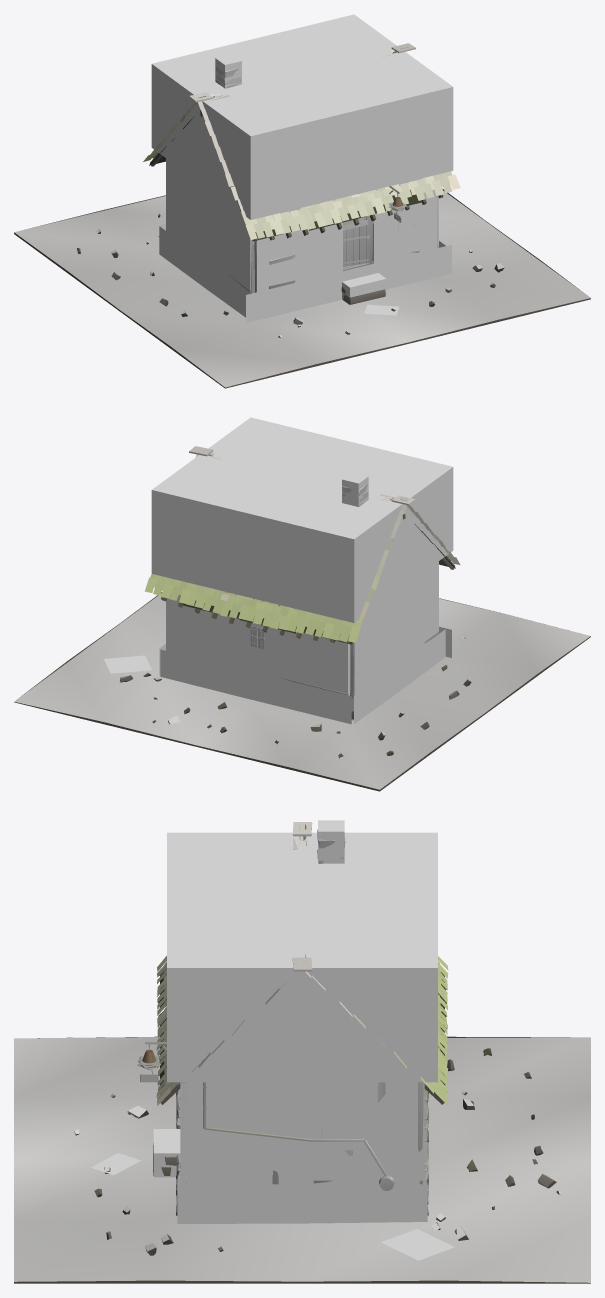
File: bld_lodge_orrin_shared.glb
The picture shows the model from 3 angles, top to bottom: view 1: azimuth 30°, elevation 25°; view 2: azimuth 150°, elevation 25°; view 3: azimuth 270°, elevation 25°; orthographic projection. The views are drawn at different scales.
Visible parts, largest first — view 1: col_roof, ground_mud, decals_orrin, col_col_wall_W_0, roof_main_shingles, col_col_wall_S_0, col_col_wall_S_2, door_main_leaf, col_steps, ground_clutter, frame_S, col_chimney (+1 smaller); view 2: col_roof, ground_mud, decals_orrin, col_col_wall_N_0, roof_main_shingles, col_col_wall_W_0, ground_clutter, col_chimney; view 3: ground_mud, col_roof, col_col_wall_E_0, decals_orrin, roof_main_shingles, ground_clutter, col_steps, col_chimney, bell_rope, plinth, col_col_wall_S_2.
Part boxes in pixels (<box>): col_roof: <box>151,14,453,219</box>; ground_mud: <box>14,189,590,388</box>; decals_orrin: <box>159,178,451,323</box>; col_col_wall_W_0: <box>166,158,254,292</box>; roof_main_shingles: <box>143,43,460,239</box>; col_col_wall_S_0: <box>256,199,342,292</box>; col_col_wall_S_2: <box>372,189,437,263</box>; door_main_leaf: <box>343,215,372,266</box>; col_steps: <box>342,273,386,304</box>; ground_clutter: <box>77,213,504,337</box>; frame_S: <box>254,193,419,292</box>; col_chimney: <box>215,54,241,88</box>; col_roof: <box>151,417,453,622</box>; ground_mud: <box>14,592,590,791</box>; decals_orrin: <box>104,626,451,724</box>; col_col_wall_N_0: <box>167,592,350,695</box>; roof_main_shingles: <box>144,446,460,642</box>; col_col_wall_W_0: <box>351,561,438,720</box>; ground_clutter: <box>120,636,471,758</box>; col_chimney: <box>342,472,368,506</box>; ground_mud: <box>14,1036,590,1283</box>; col_roof: <box>167,832,437,1082</box>; col_col_wall_E_0: <box>187,1082,417,1184</box>; decals_orrin: <box>91,1153,454,1260</box>; roof_main_shingles: <box>156,822,448,1105</box>; ground_clutter: <box>74,1048,561,1255</box>; col_steps: <box>153,1129,180,1177</box>; col_chimney: <box>318,820,344,863</box>; bell_rope: <box>203,1082,394,1190</box>; plinth: <box>176,1089,428,1215</box>; col_col_wall_S_2: <box>180,1082,186,1184</box>.
Bounding box in the file's own units: 13 × 7.34 × 13.
